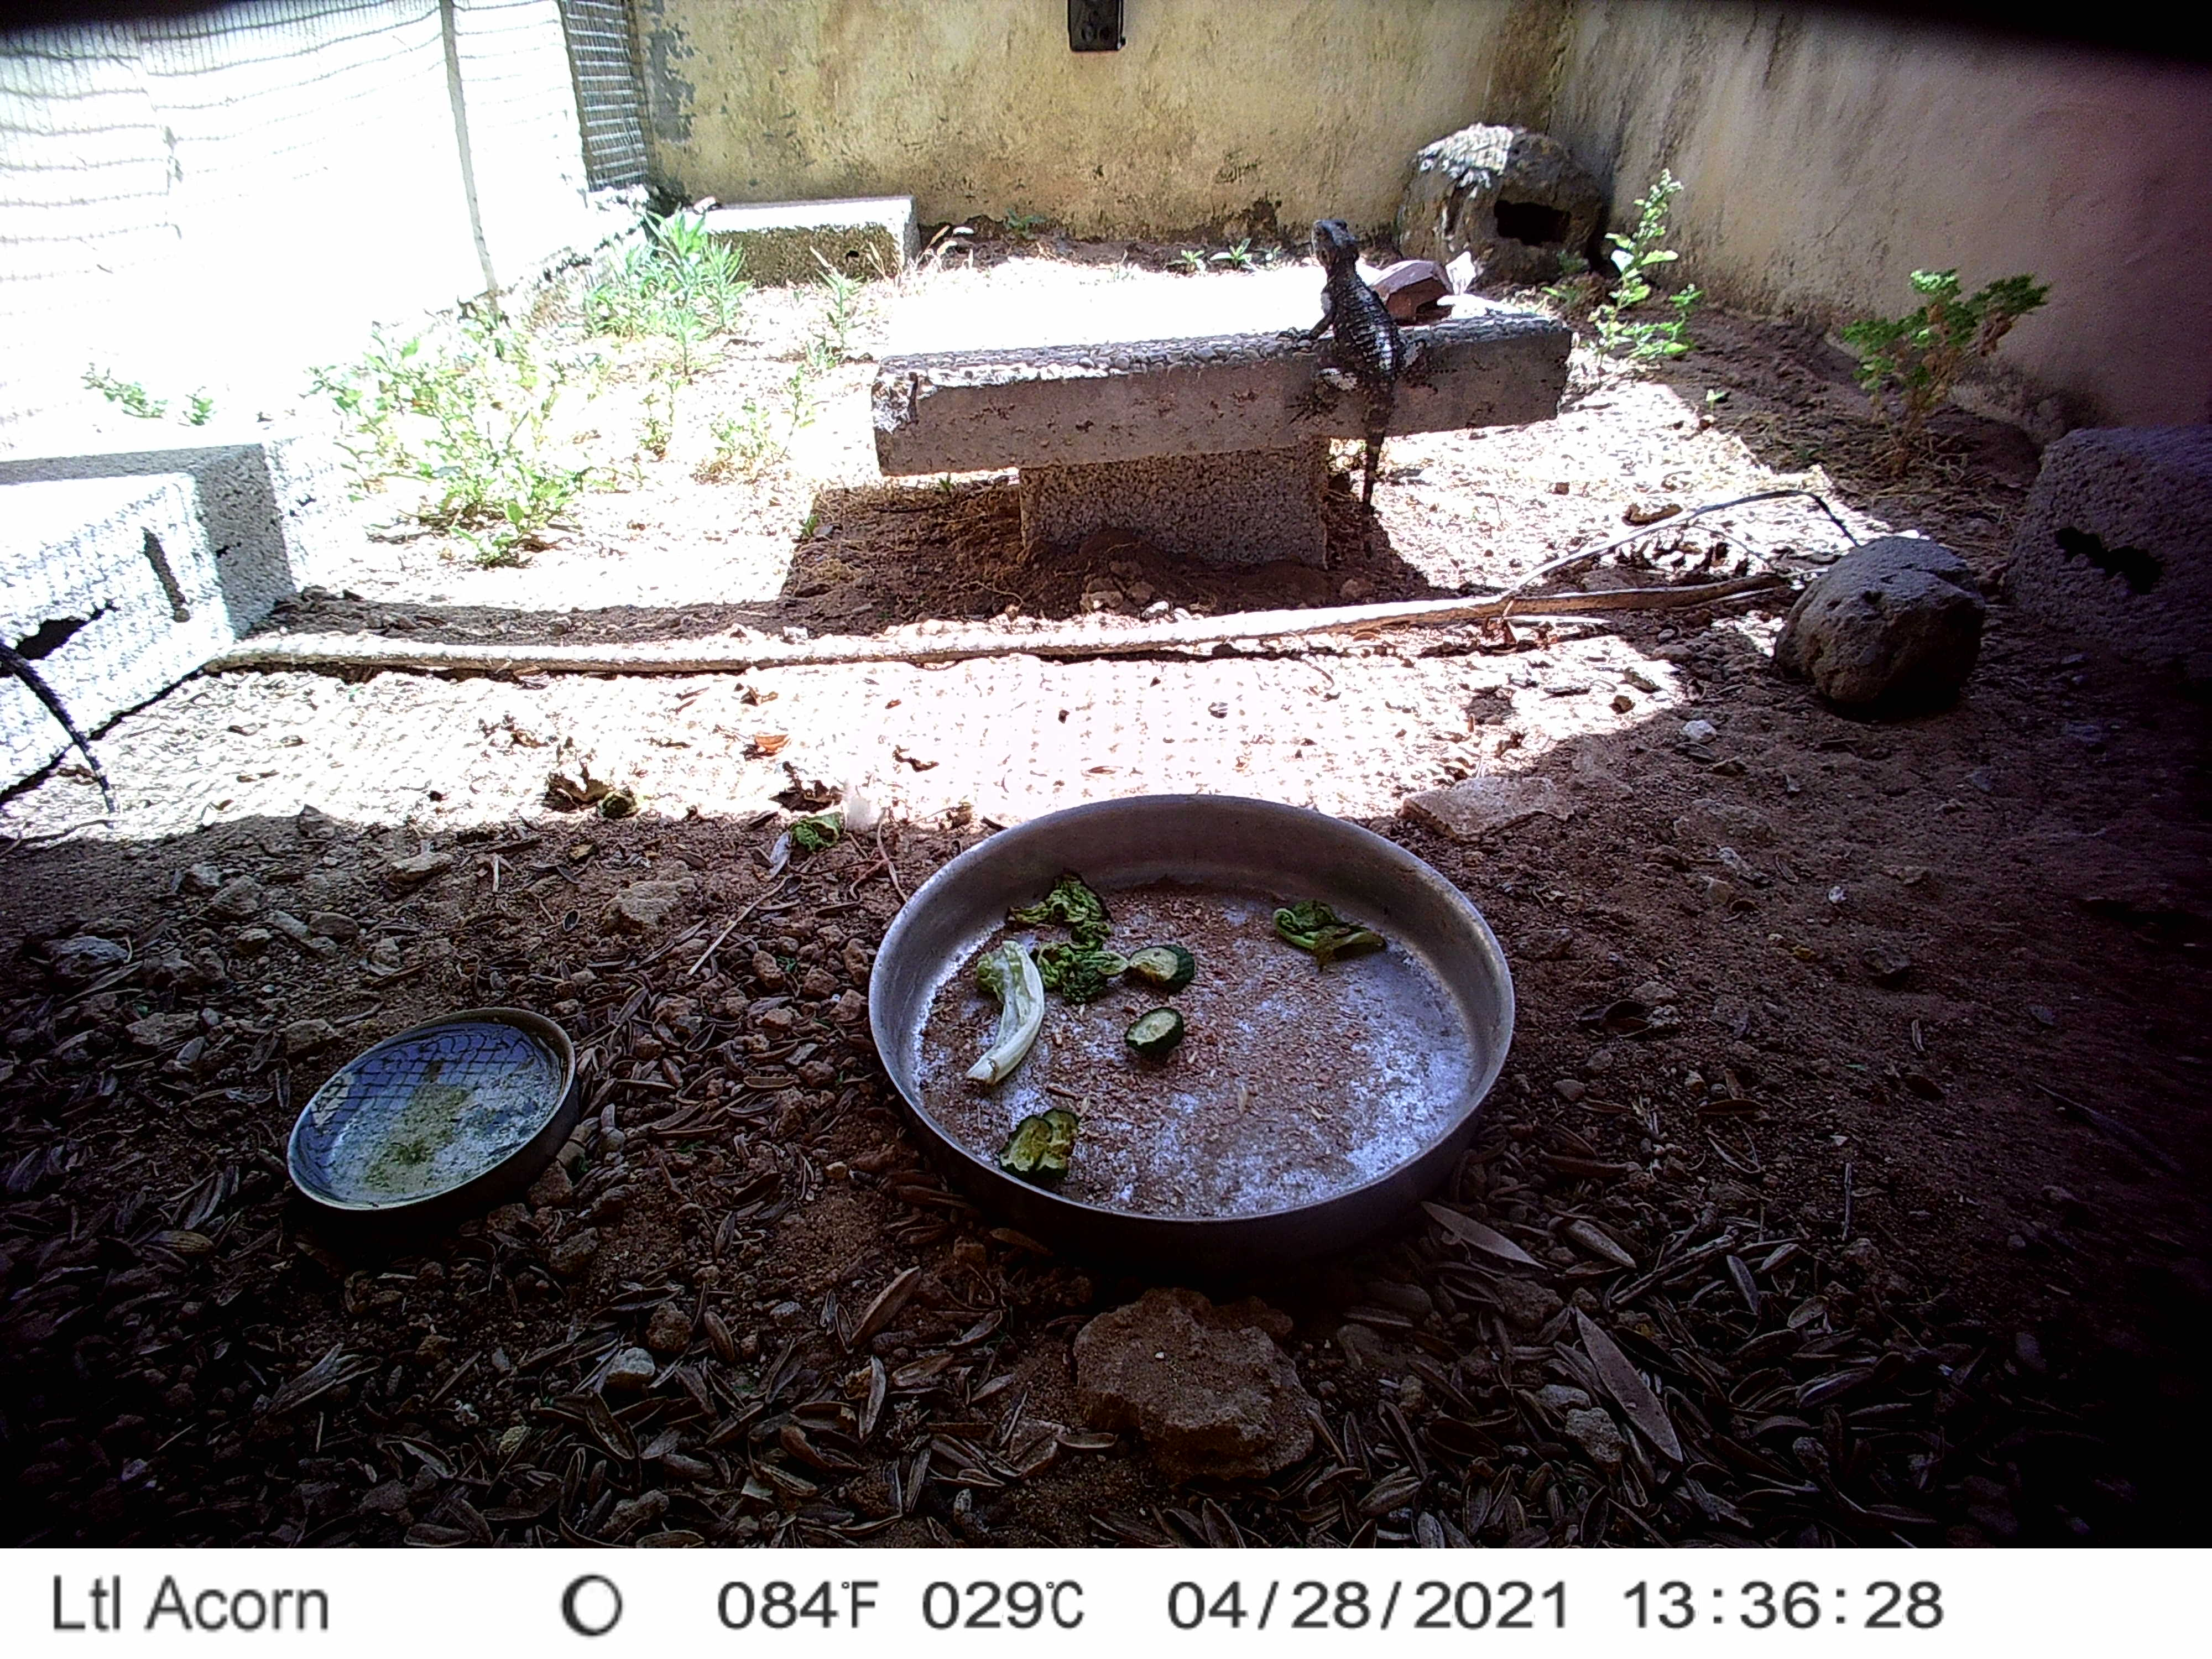lizard: (1298, 223, 1423, 573), (12, 652, 118, 816)
